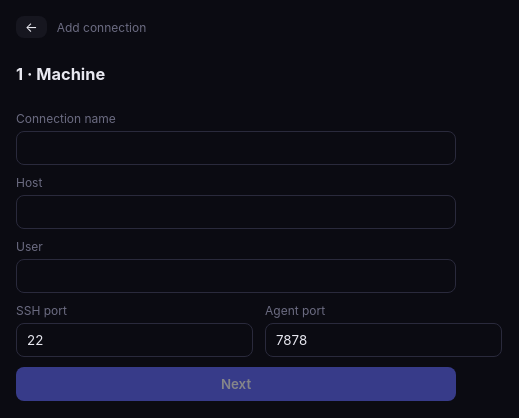
Scenario: SetupWizard Steps 1-3 › Step 2 Verify enables advancing only when verify_key returns true
In the field labelled "Connection name": (236, 148) [16,131,456,165], type "Studio Mini"
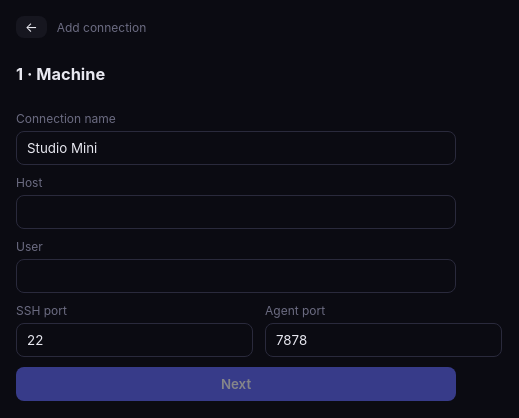
In the field labelled "Host": (236, 212) [16,195,456,229], type "studio-mini"
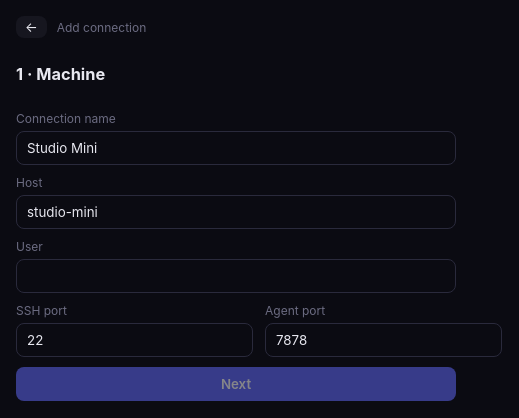
In the field labelled "User": (236, 276) [16,259,456,293], type "rebin"
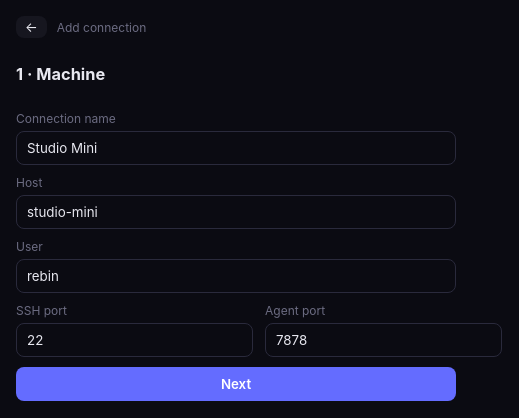
Click the button with test id "wiz-next": (236, 384) [16,367,456,401]
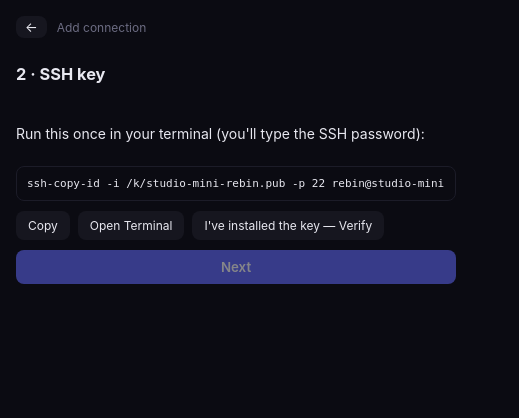
Click the button with test id "verify-key": (288, 225) [192,211,384,240]
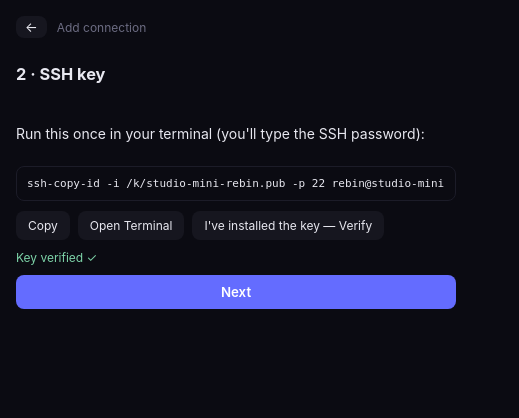
Check: the button with test id "wiz-next" is enabled, box [16,275,456,309]
